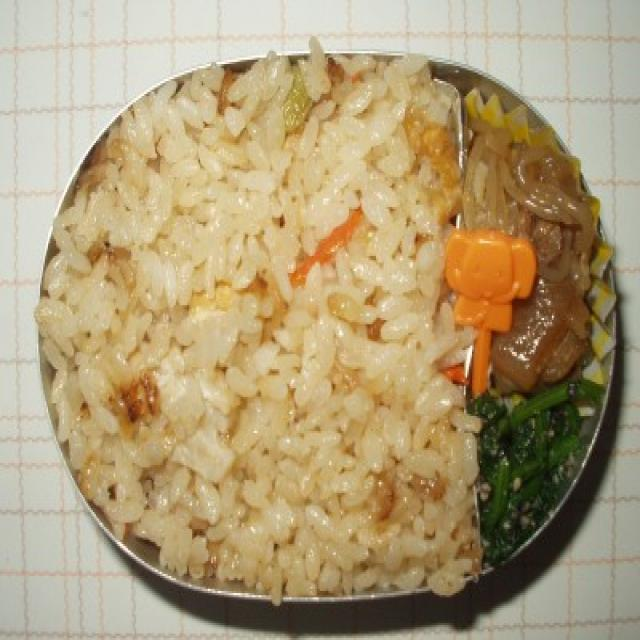米饭主食: (26, 43, 616, 616)
